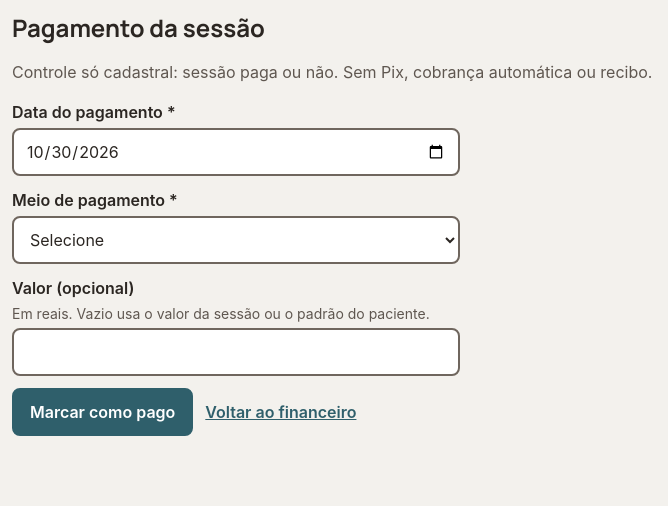
Scenario: Pagamento da sessão (FIN-09) › meio e data são obrigatórios e nada é enviado sem eles
Clear the date field labelled "Data do pagamento *": (236, 152) [12, 128, 460, 176]
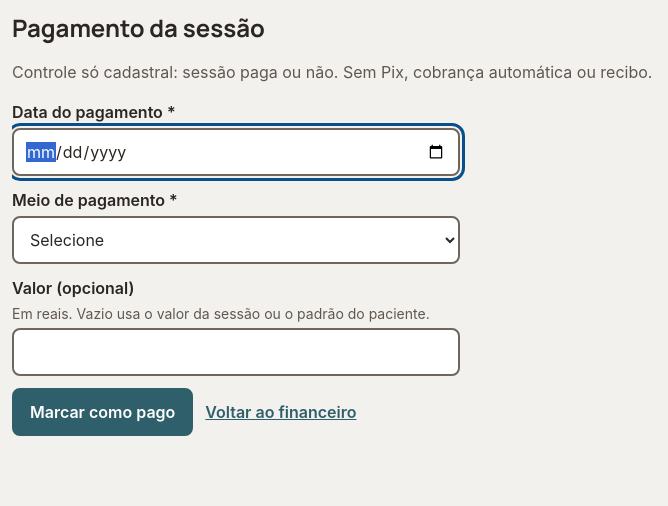
Click the button "Marcar como pago": (103, 412) [12, 388, 193, 436]
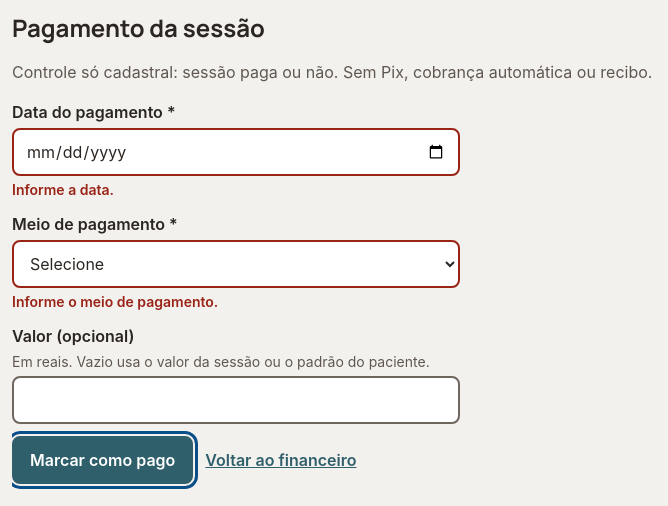
Expected: the text "Informe a data." is shown, [12, 181, 114, 198]
Expected: the text "Informe o meio de pagamento." is shown, [12, 293, 218, 310]
